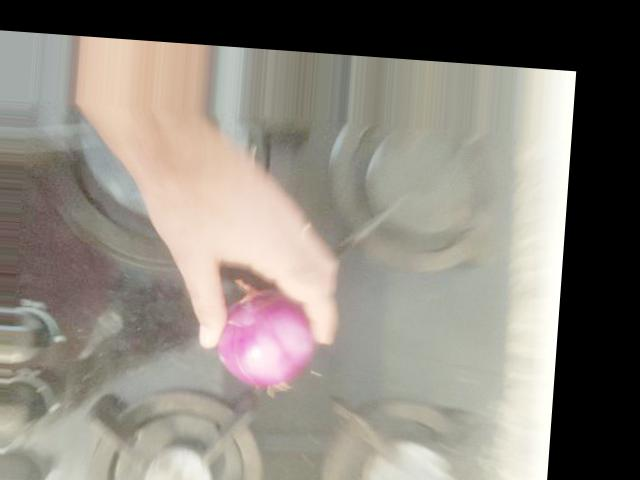onion: (187, 264, 317, 384)
